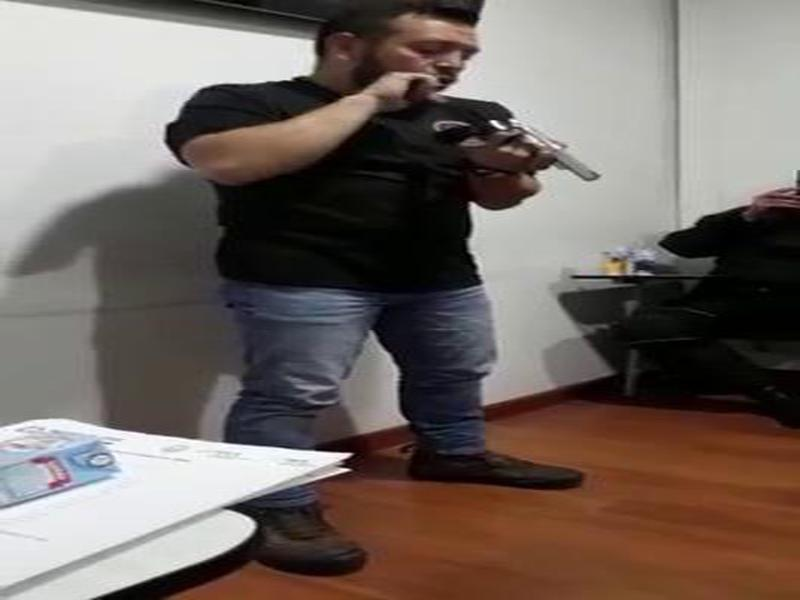Revolver: (460, 104, 629, 216)
